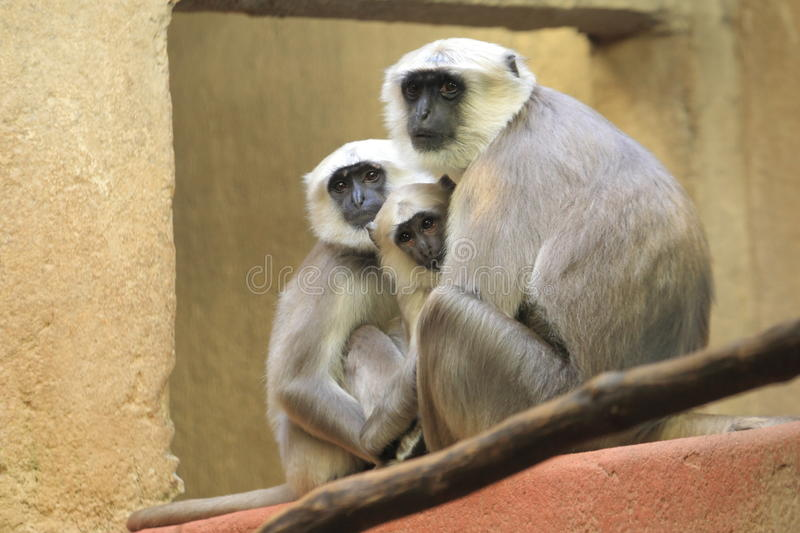monkey: (377, 38, 737, 463), (264, 128, 450, 490), (364, 179, 469, 327)
